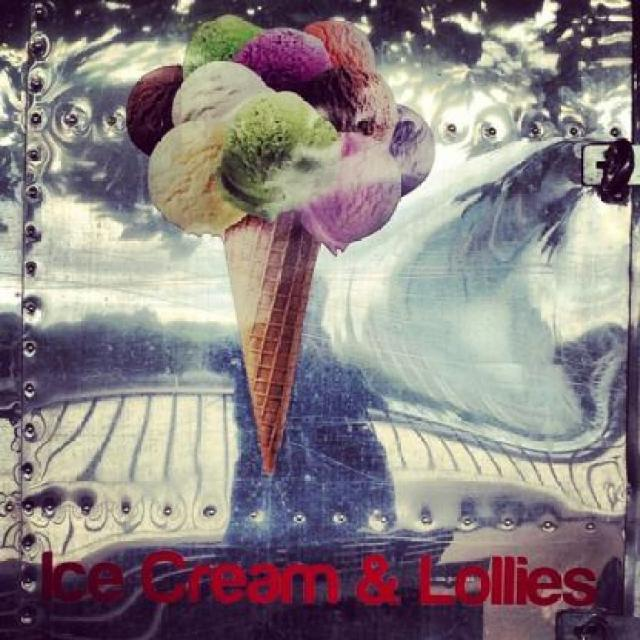Ice cream: (168, 32, 412, 405)
